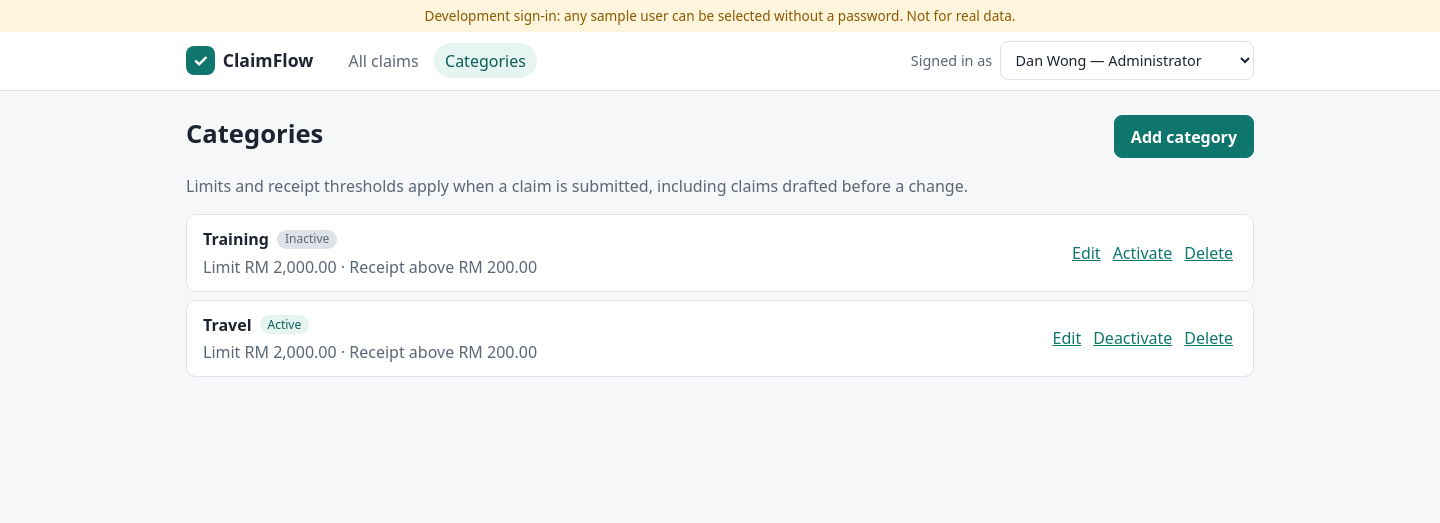
deleting categories › explains when a category is still in use
Click the button named "Delete Travel".
click(1209, 338)  # box 1180,322 -> 1237,354
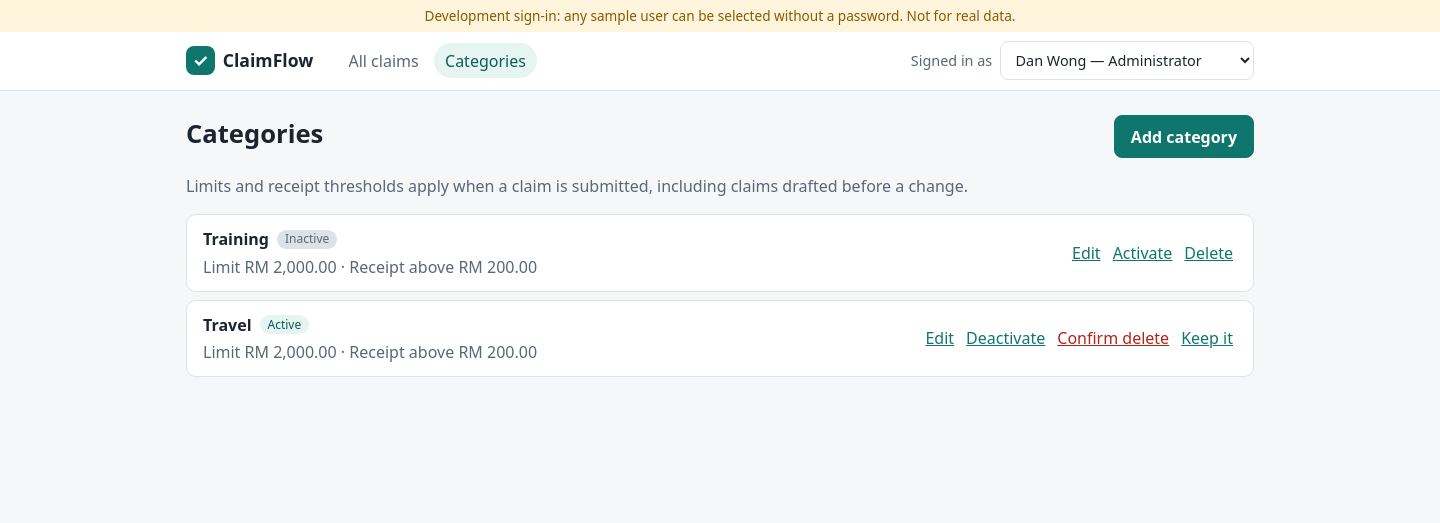
Click the button named "Confirm delete Travel".
click(1113, 338)  # box 1053,322 -> 1173,354
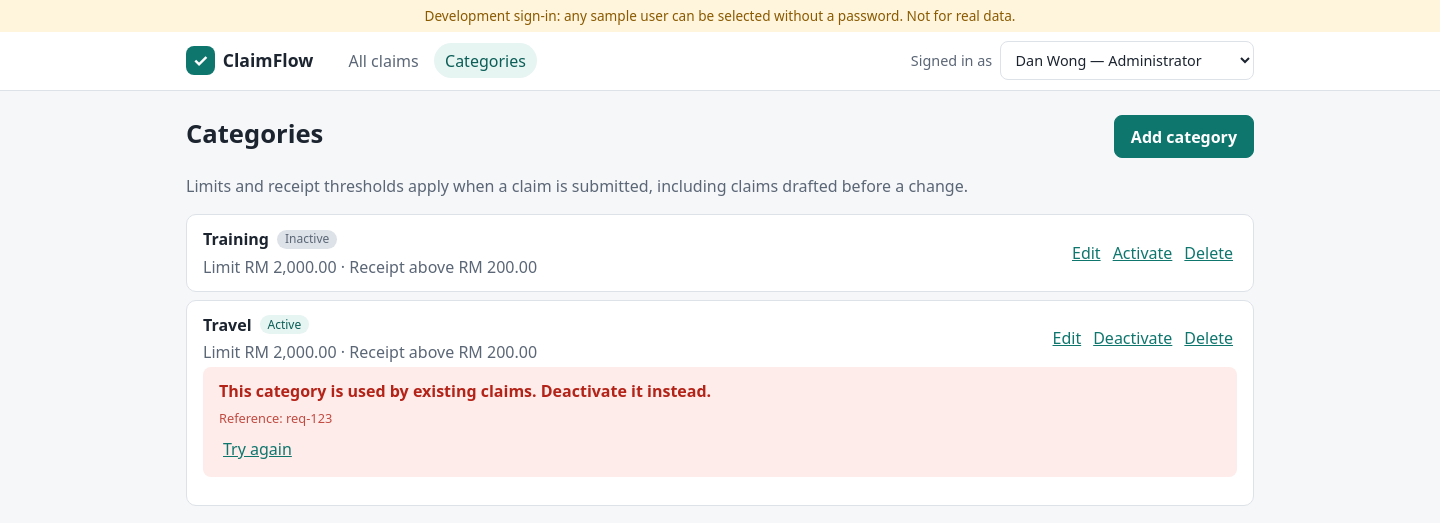
Check: the message shows "Deactivate it instead.", box 219,380 -> 711,402
